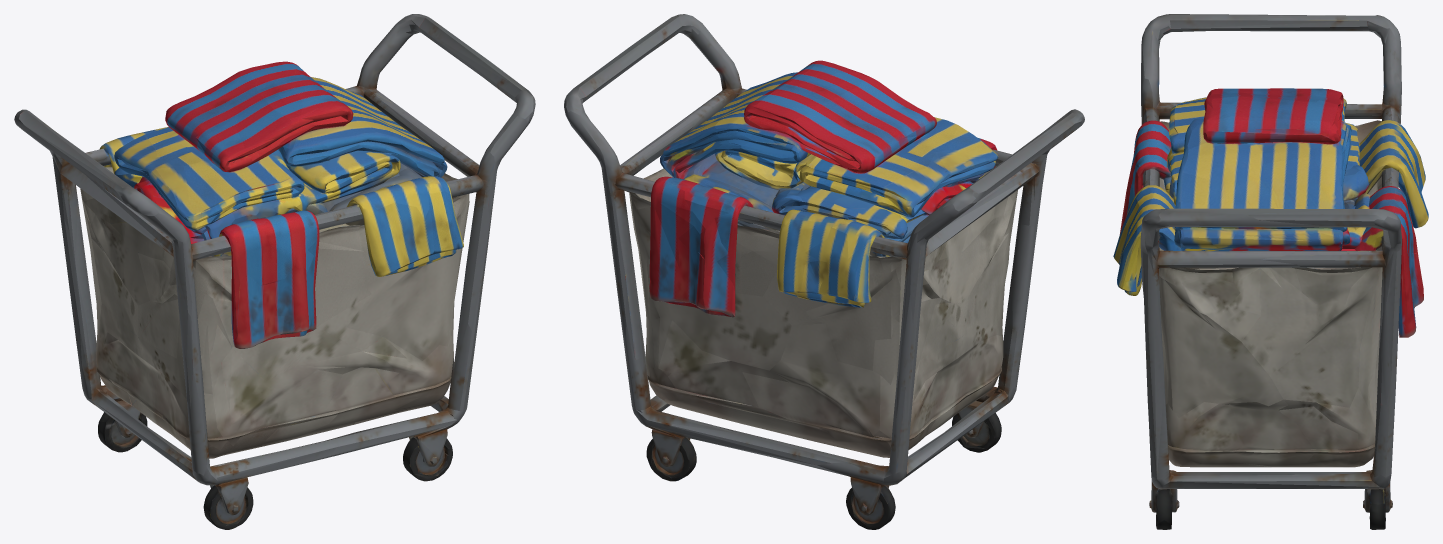
The model's file is carrello_asciugamani.glb.
3 views of the same model, side by side, from view 1: azimuth 30°, elevation 25°; view 2: azimuth 150°, elevation 25°; view 3: azimuth 270°, elevation 25° (orthographic).
Parts seen in each view (by area): view 1: Mesh_0; view 2: Mesh_0; view 3: Mesh_0.
Part boxes in pixels (x1=…): Mesh_0: x1=14, y1=14, x2=535, y2=529; Mesh_0: x1=564, y1=14, x2=1084, y2=529; Mesh_0: x1=1113, y1=14, x2=1428, y2=529.
Size of the model in its own units: 1.9 by 1.65 by 1.25.
1 material, 1 textured.
